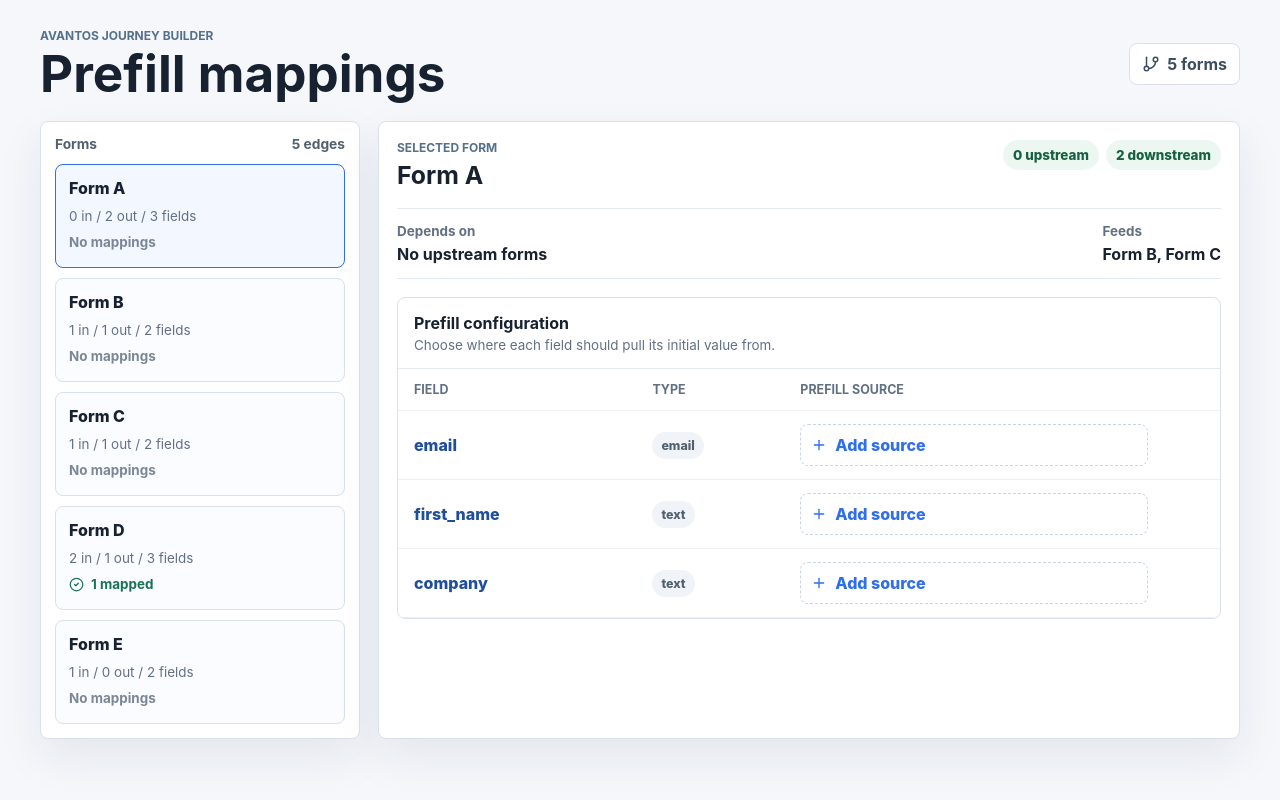
Test: App › clears an existing mapping
Click the button "Form D 2 in / 1 out / 3 fields 1 mapped" at (97, 530), box 55,506 -> 345,610
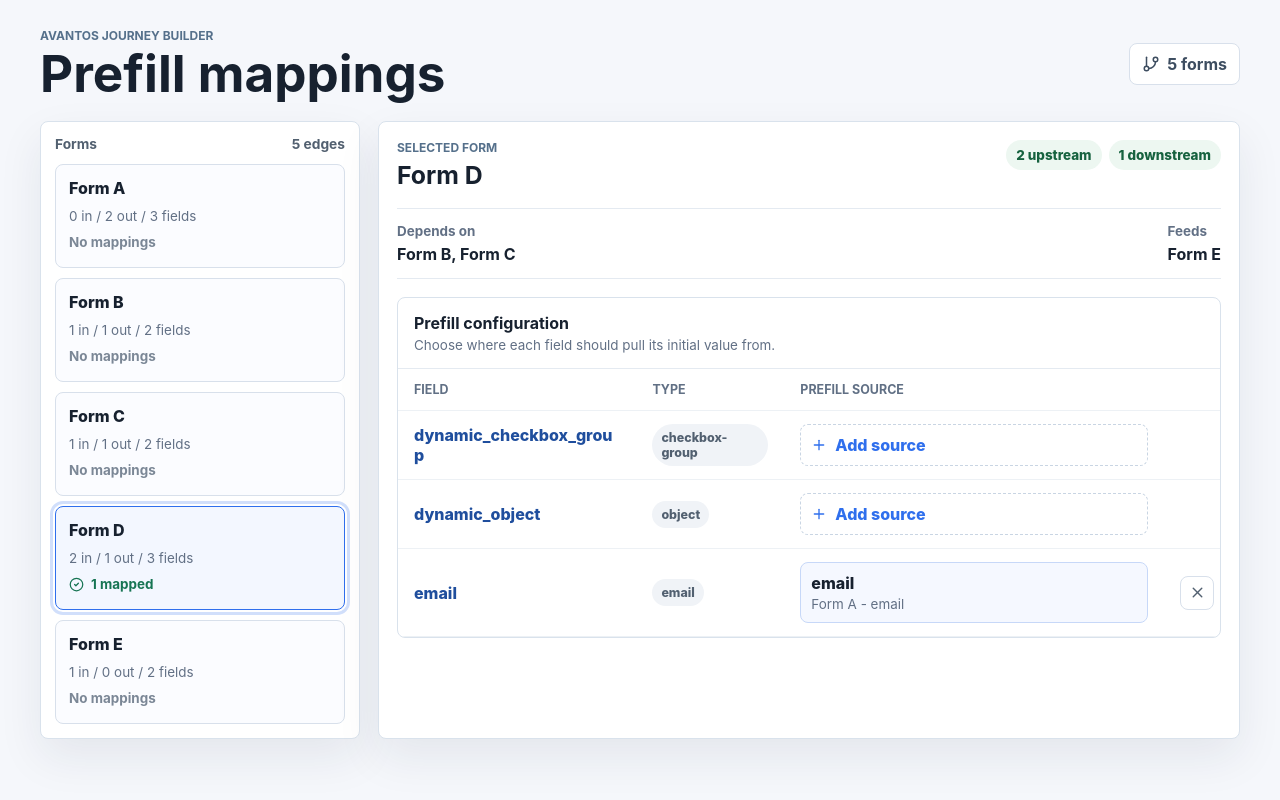
Expected: the text "Form A - email" is shown, 811,596 -> 904,612
Click the button named "Clear prefill mapping for email" at (1197, 593), box 1180,576 -> 1214,610
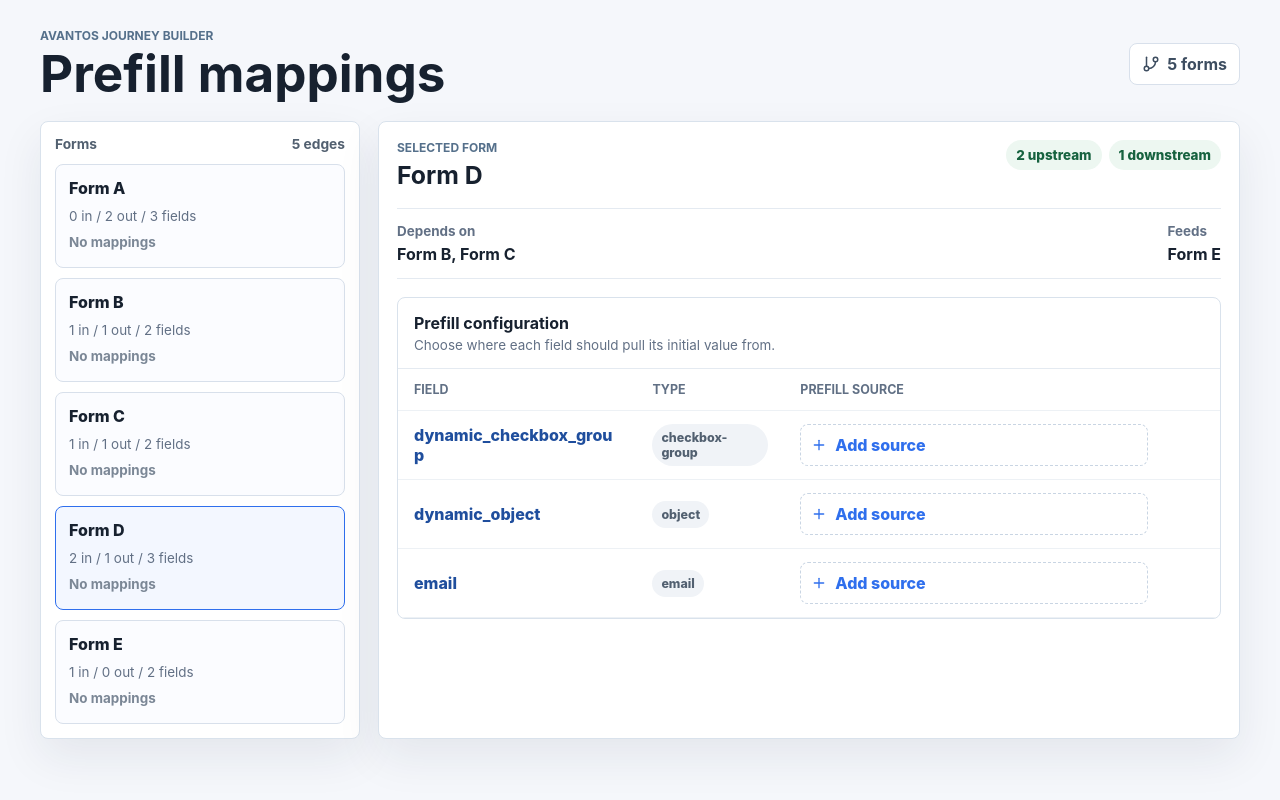
Expected: the text "Form A - email" is gone
Expected: the number of buttons "Add source" is 3, 800,424 -> 1148,466; 800,493 -> 1148,535; 800,562 -> 1148,604
